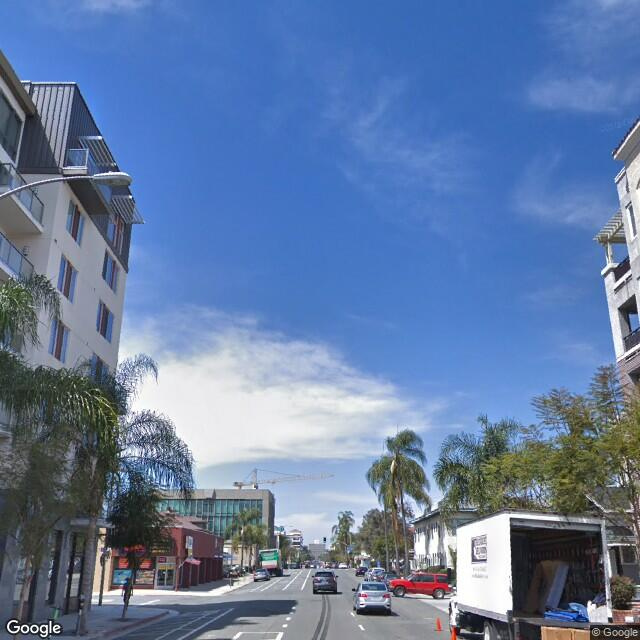light: (84, 171, 137, 189)
window: (48, 313, 69, 366), (53, 257, 76, 304), (97, 298, 118, 347)
